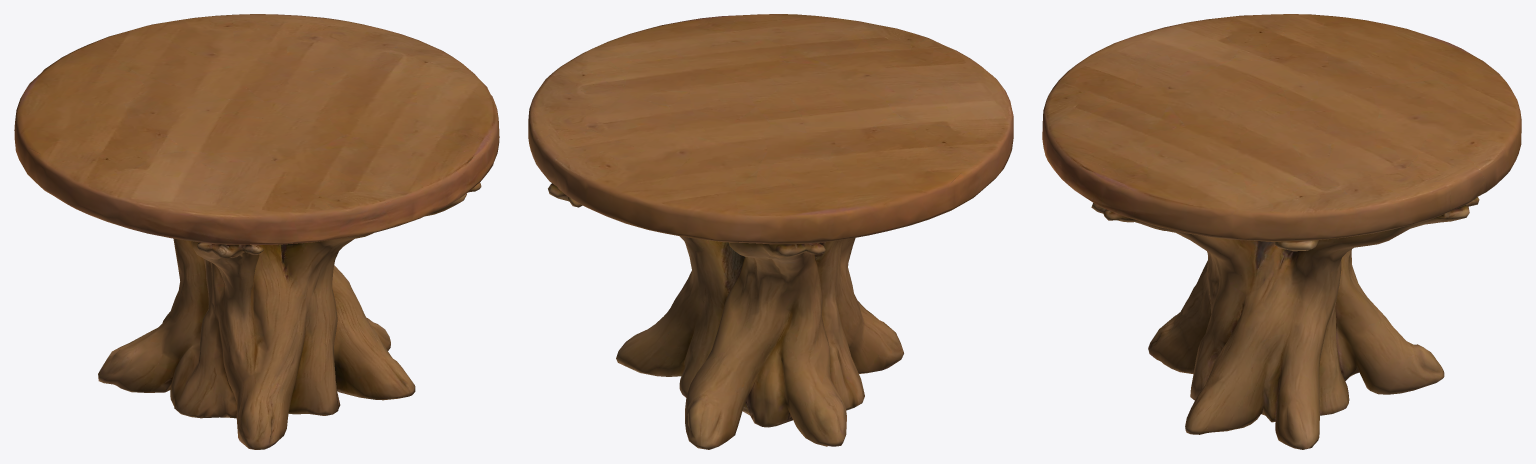
Rendered from tree_table.glb.
3 views of the same model, side by side, from view 1: azimuth 30°, elevation 25°; view 2: azimuth 150°, elevation 25°; view 3: azimuth 270°, elevation 25° (orthographic).
Size of the model in its own units: 2 by 1.29 by 2.01.
Materials: 1 (1 with a texture image).
